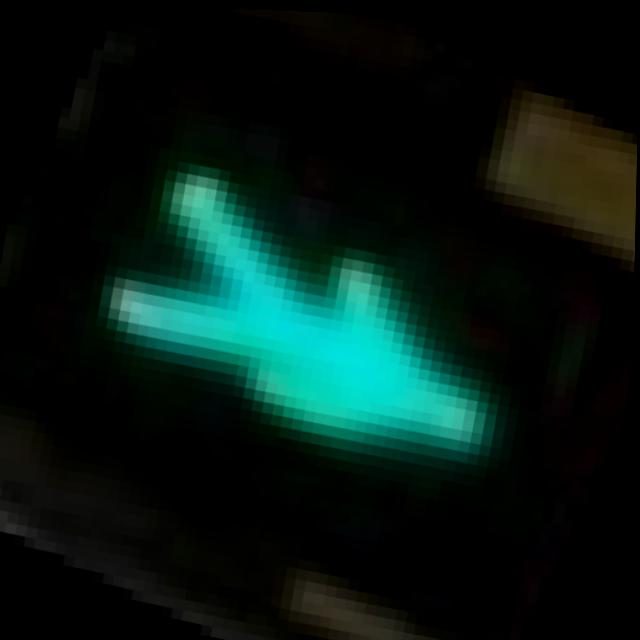green_light: (77, 118, 598, 518)
